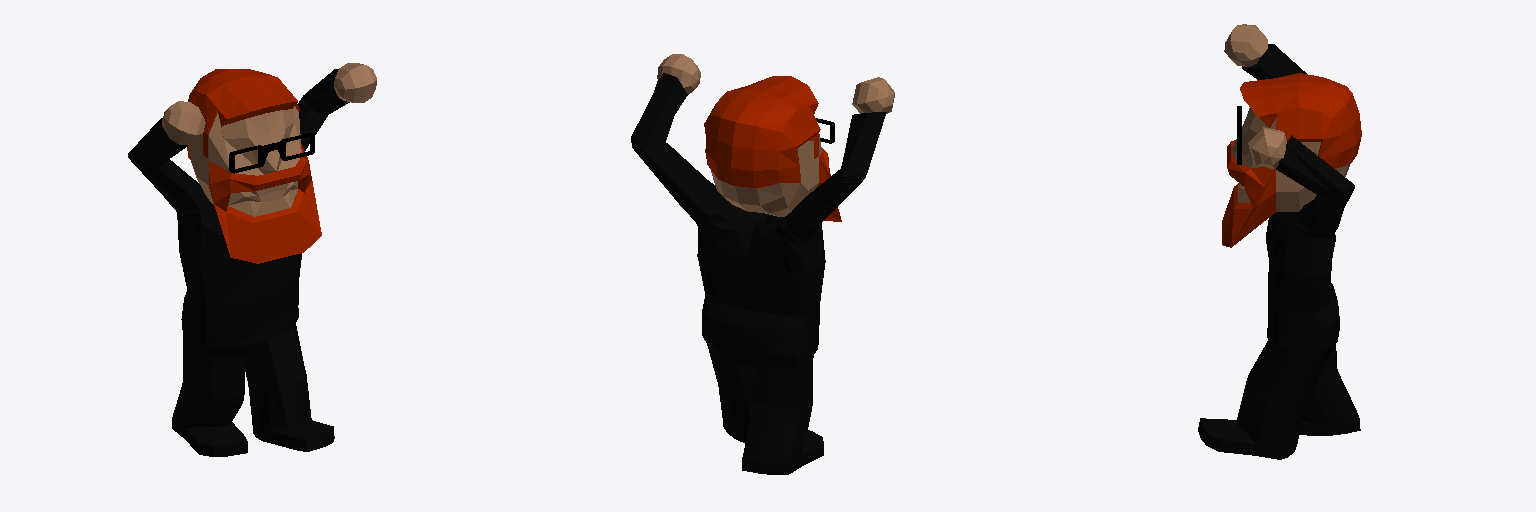
Rendered from brendo.obj.
3 renders of one model, left to right at view 1: azimuth 30°, elevation 25°; view 2: azimuth 150°, elevation 25°; view 3: azimuth 270°, elevation 25°, orthographic.
Visible parts, largest first — view 1: Dude_Cube; view 2: Dude_Cube; view 3: Dude_Cube.
Part boxes in pixels (left/top/right/bottom): Dude_Cube: left=128, top=63, right=376, bottom=456; Dude_Cube: left=631, top=54, right=894, bottom=474; Dude_Cube: left=1198, top=24, right=1361, bottom=459.
Size of the model in its own units: 0.8149 by 1.27 by 0.5106.